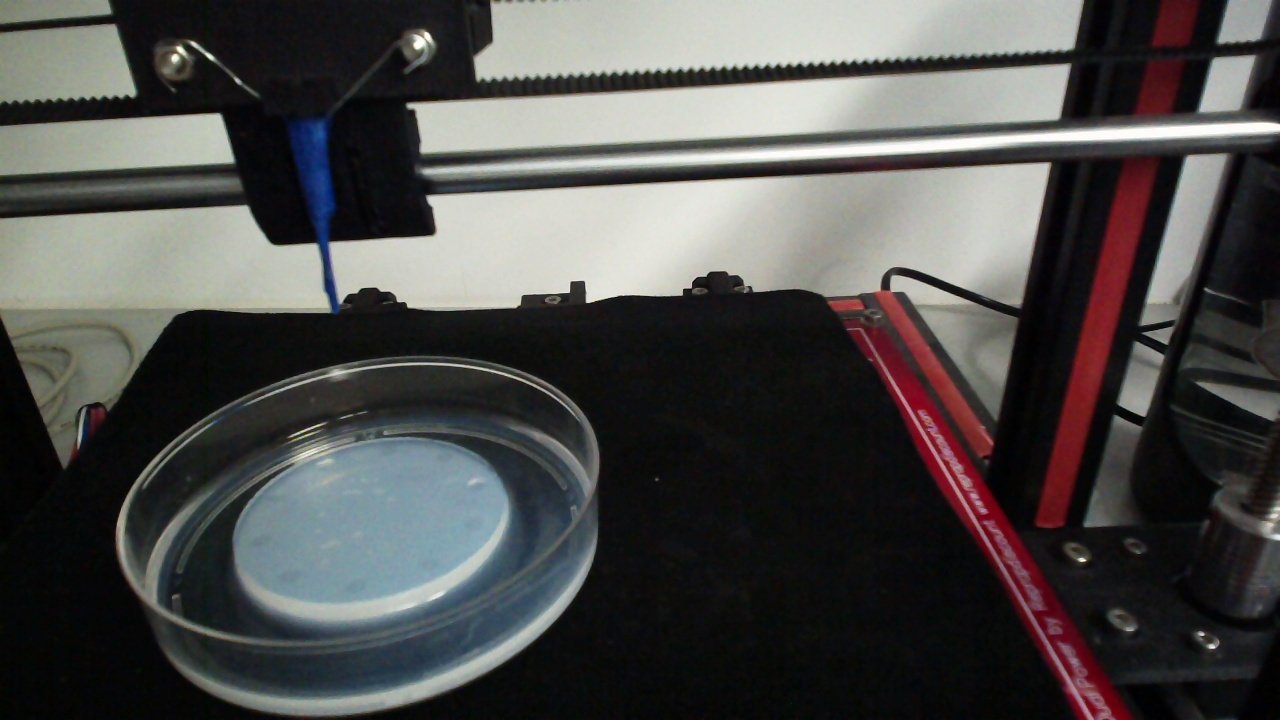groove: (250, 530, 274, 551), (465, 476, 488, 496), (376, 440, 400, 459), (276, 566, 299, 585), (343, 577, 367, 595), (418, 556, 440, 573), (266, 487, 286, 505), (313, 456, 335, 472), (462, 517, 484, 533), (434, 449, 454, 465)
needle: (287, 120, 336, 316)
